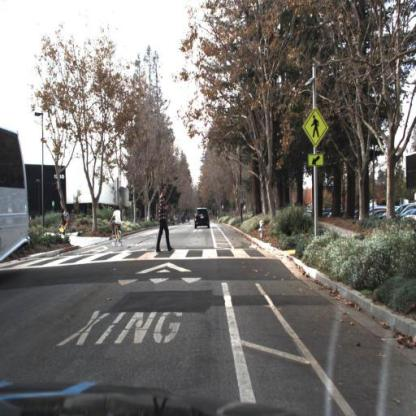biker: (109, 204, 129, 250), (57, 207, 73, 238)
car: (194, 203, 211, 232)
pedestrian: (154, 183, 179, 257), (61, 210, 70, 236), (64, 205, 72, 226)
